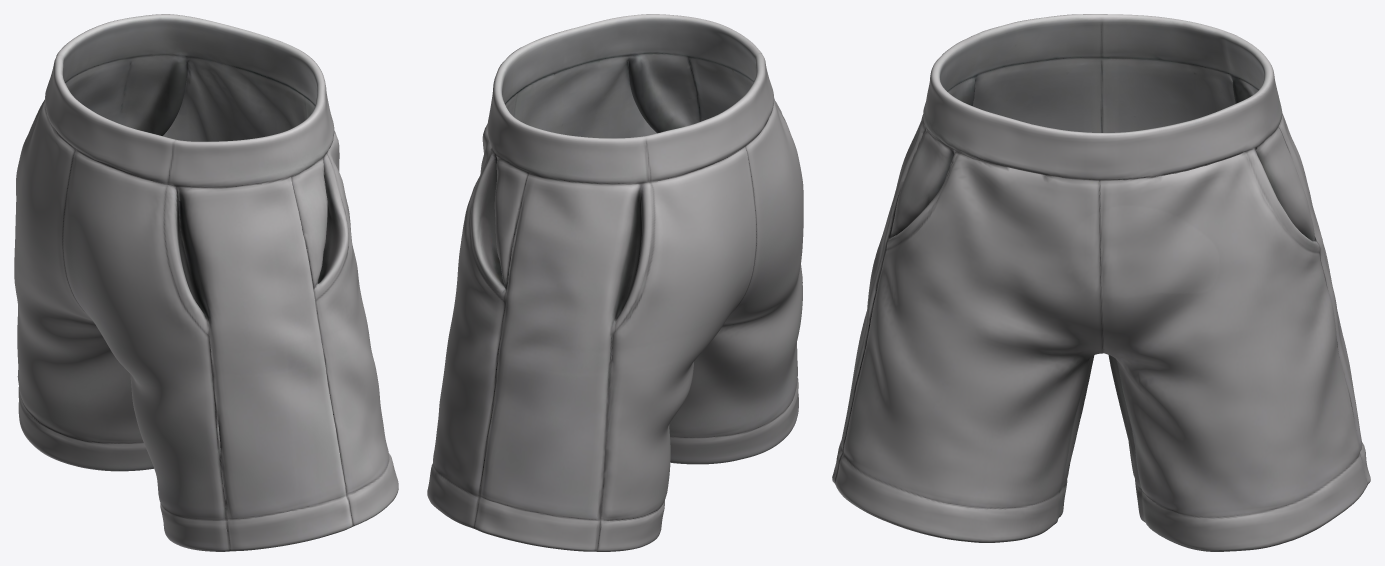
File: shorts.fbx
3 views of the same model, side by side, from view 1: azimuth 30°, elevation 25°; view 2: azimuth 150°, elevation 25°; view 3: azimuth 270°, elevation 25° (orthographic). The views are drawn at different scales.
Parts seen in each view (by area): view 1: tripo_node_9daf6869; view 2: tripo_node_9daf6869; view 3: tripo_node_9daf6869.
Part boxes in pixels (left/top/right/bottom): tripo_node_9daf6869: left=14, top=14, right=398, bottom=551; tripo_node_9daf6869: left=427, top=14, right=803, bottom=551; tripo_node_9daf6869: left=832, top=14, right=1370, bottom=551.
Bounding box in the file's own units: 58.07 × 87 × 97.95.
Materials: 1 (1 with a texture image).
